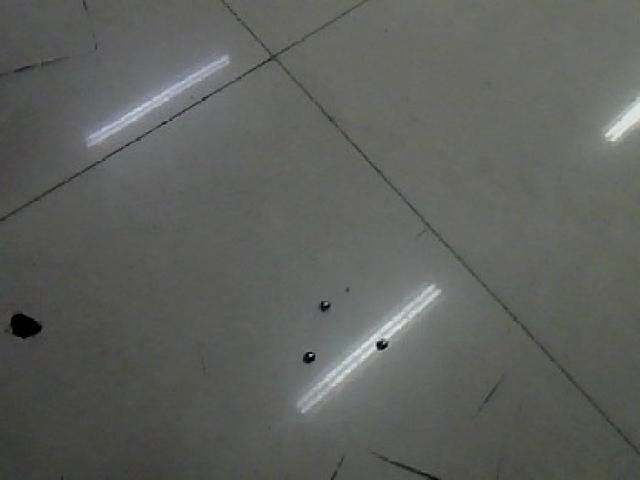steel-ball: (292, 332, 323, 371), (310, 284, 332, 316), (371, 322, 392, 349)
